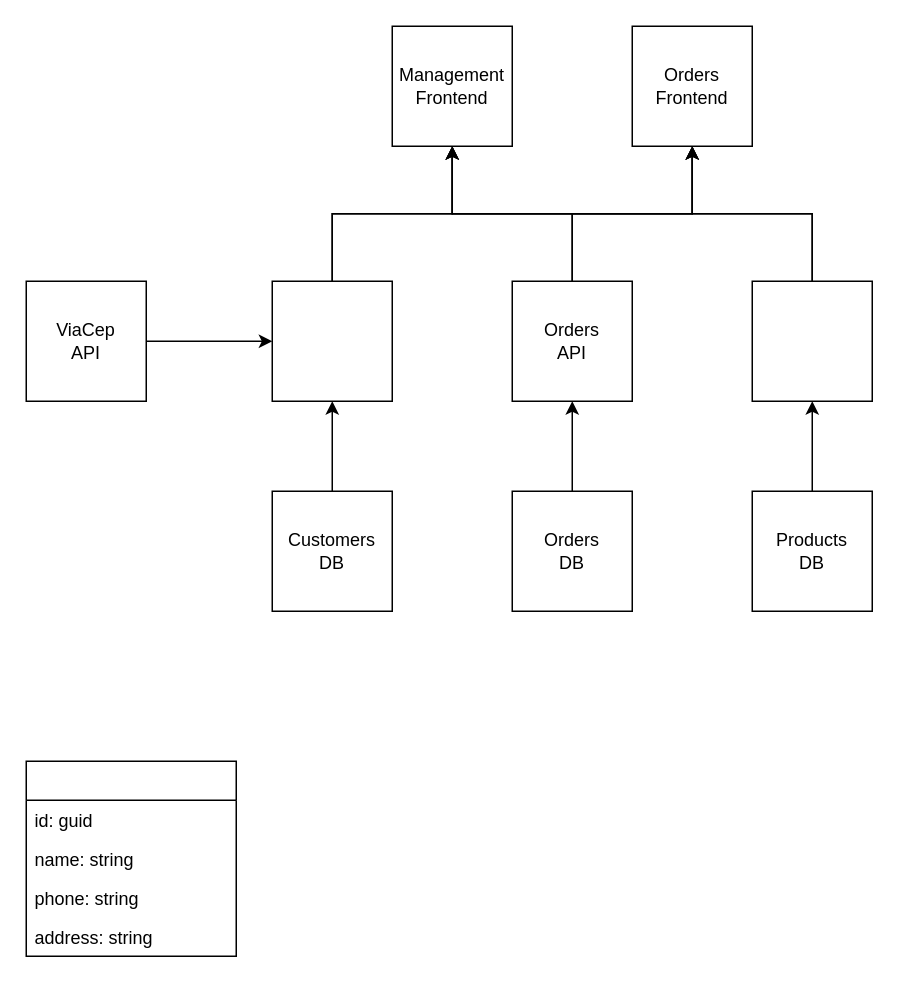
This 899x987 diagram has some shape labels left out. The shapes that lost their labels are listed below. From the top down, each one's box as (x1, y1, x2, y2) in pixels, then its label:
(271, 280, 392, 401): Customers API
(751, 280, 872, 401): Products API
(25, 760, 236, 956): Customers
